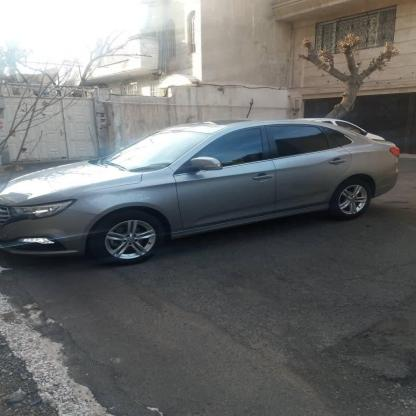Car: (0, 122, 407, 267)
